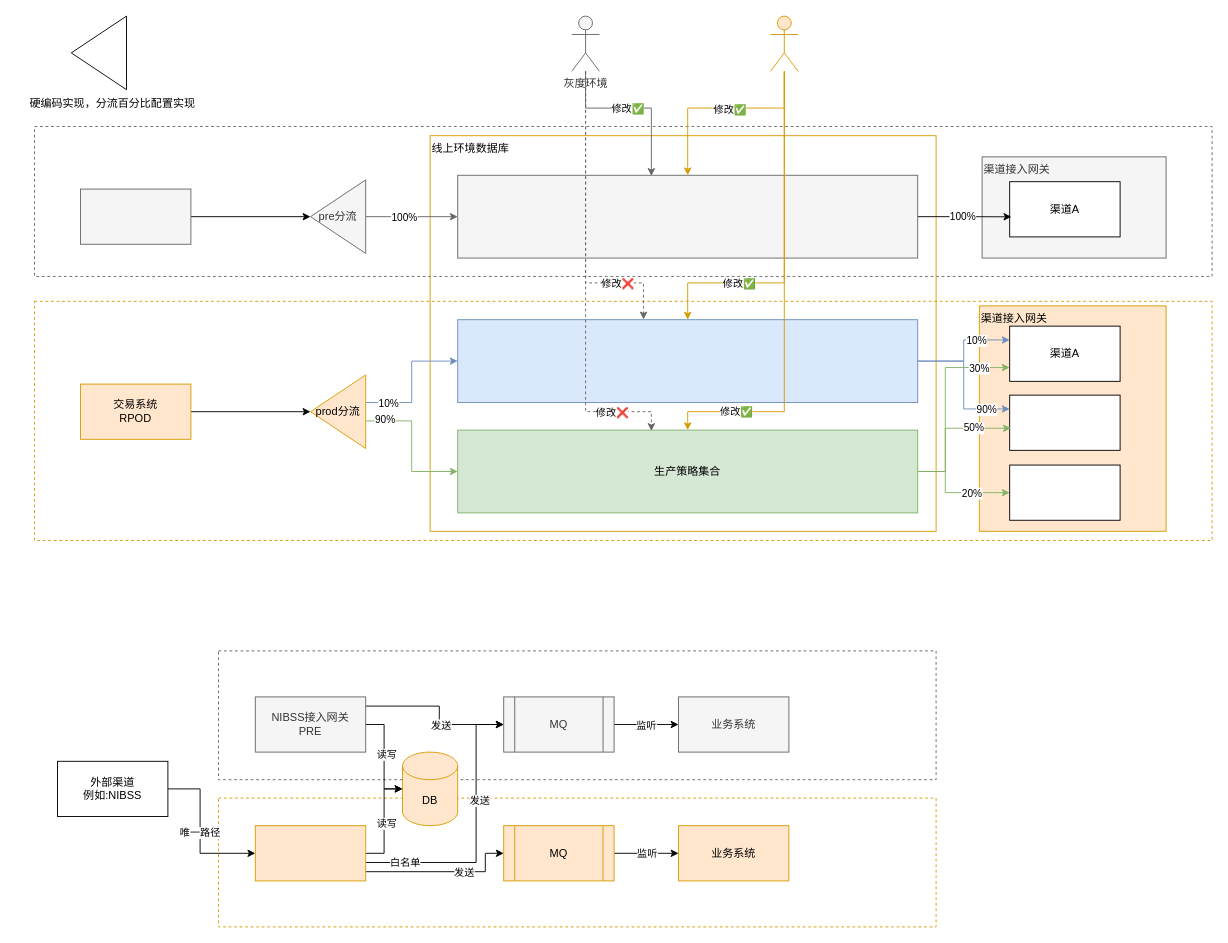
Image size: 1228x943. Some labels were removed from this diagram. Here are the shapes that lost their labels. From the top down, the centre of each, then its label:
the point at 98,52: 分流器
the point at 784,43: 线上环境
the point at 135,216: 交易系统 PRE
the point at 687,216: 灰度策略集合
the point at 687,360: 生产测试略集合
the point at 1064,422: 渠道B
the point at 1064,492: 渠道C...
the point at 310,853: NIBSS接入网关 PROD
